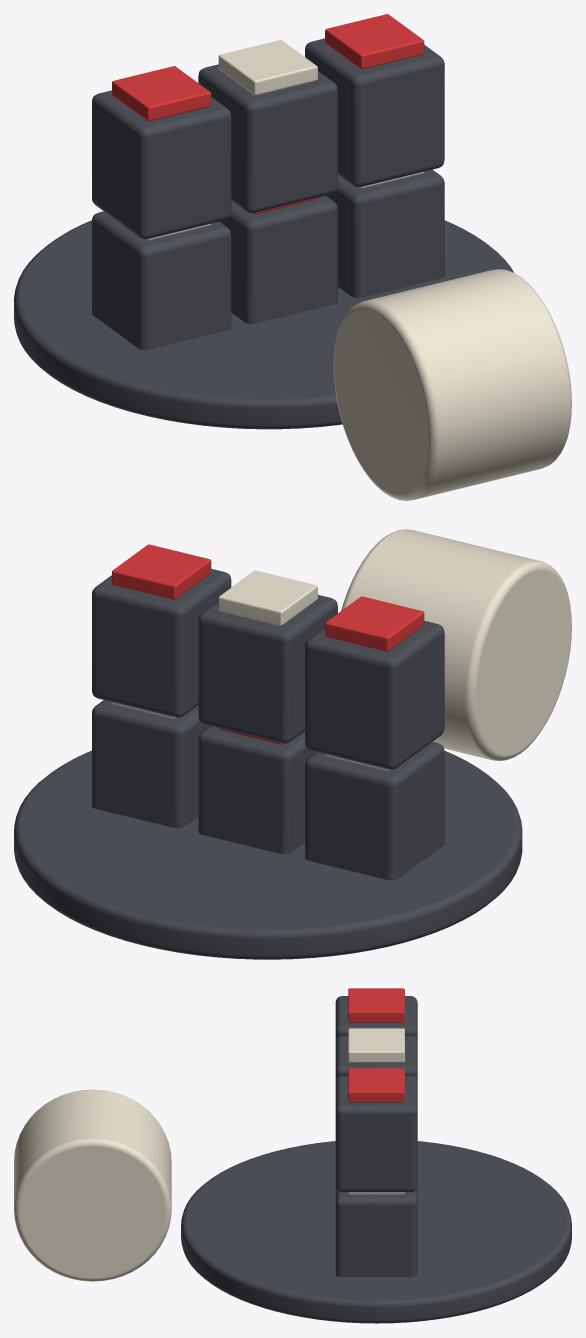
File: theme_06.glb
The picture shows the model from 3 angles, top to bottom: view 1: azimuth 30°, elevation 25°; view 2: azimuth 150°, elevation 25°; view 3: azimuth 270°, elevation 25°; orthographic projection. The views are drawn at different scales.
Parts seen in each view (by area): view 1: theme_06; view 2: theme_06; view 3: theme_06.
Part boxes in pixels (x1,y1,x2,y2): theme_06: (14, 14, 571, 500); theme_06: (14, 529, 571, 959); theme_06: (14, 988, 571, 1323).
Bounding box in the file's own units: 1.24 × 0.76 × 1.77.
